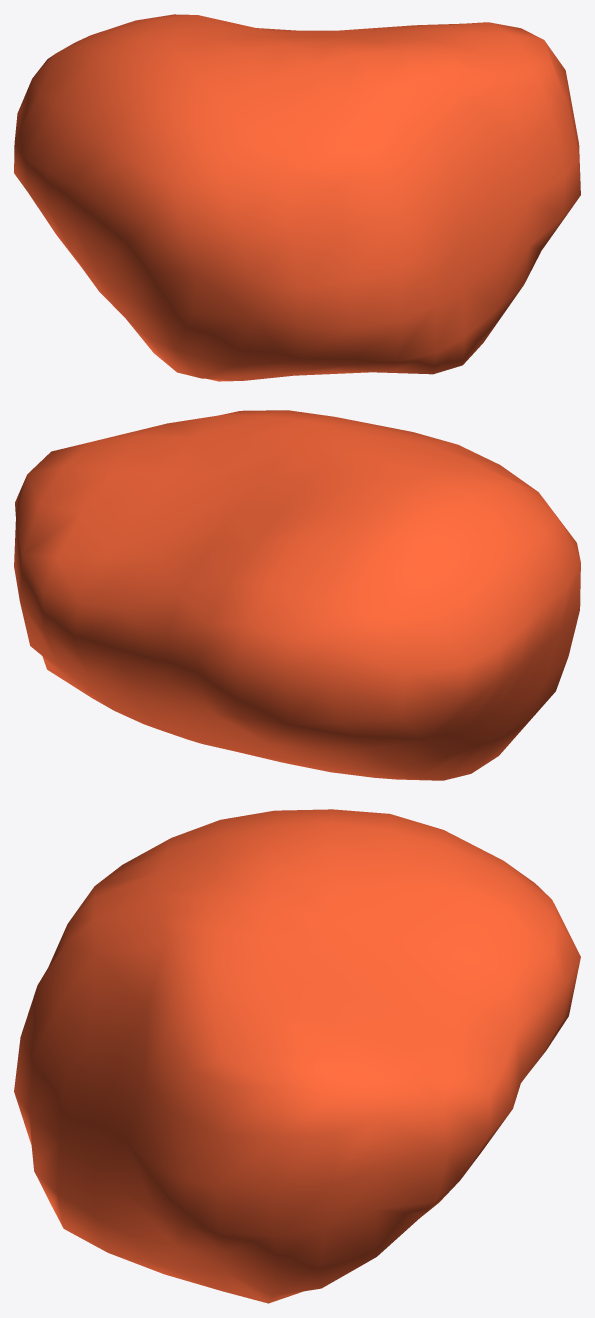
3 renders of one model, top to bottom at view 1: azimuth 30°, elevation 25°; view 2: azimuth 150°, elevation 25°; view 3: azimuth 270°, elevation 25°, orthographic. The views are drawn at different scales.
Visible parts, largest first — view 1: Roca12; view 2: Roca12; view 3: Roca12.
Boxes of the visible parts, x1,y1,x2,y2 form: Roca12: (14,14,580,381); Roca12: (14,410,580,780); Roca12: (14,809,580,1303).
Size of the model in its own units: 94.7 by 57.04 by 83.01.
